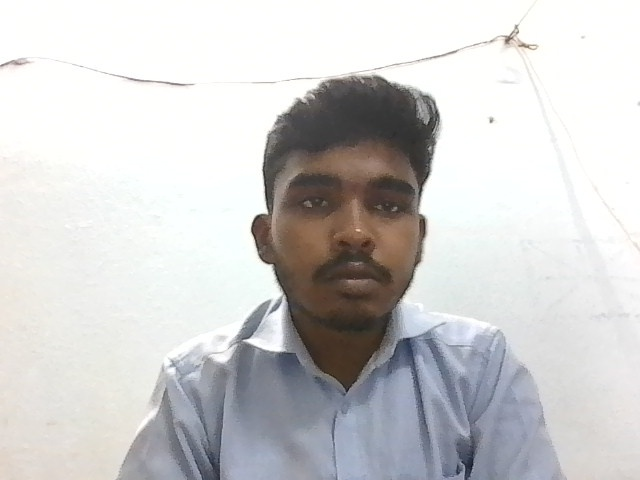real: (245, 61, 449, 350)
